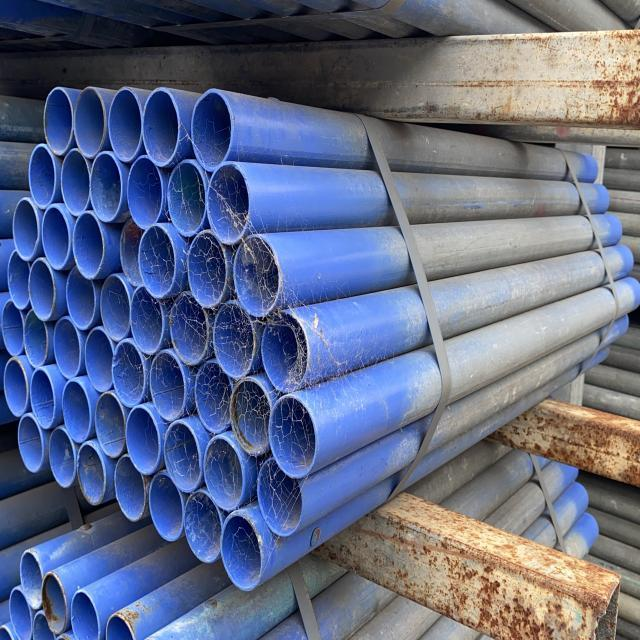pipe: (268, 390, 319, 481), (229, 235, 282, 320), (136, 85, 189, 169), (255, 455, 304, 538), (188, 88, 233, 174), (211, 298, 257, 380), (204, 162, 249, 244), (202, 435, 251, 510), (186, 227, 231, 307), (182, 479, 223, 565), (125, 154, 168, 233), (164, 159, 207, 237), (227, 377, 270, 455), (135, 219, 179, 295), (221, 514, 265, 590), (263, 314, 309, 386), (168, 291, 208, 370), (194, 357, 235, 433), (147, 461, 183, 544), (105, 86, 142, 165), (161, 419, 201, 492), (64, 254, 101, 331), (27, 236, 59, 323), (124, 404, 162, 476), (148, 350, 187, 420), (110, 339, 148, 408), (129, 283, 165, 354), (71, 208, 107, 277), (113, 449, 146, 524), (57, 145, 90, 217), (89, 150, 121, 222), (41, 87, 74, 155), (92, 390, 123, 462), (59, 377, 93, 440), (73, 84, 103, 155), (28, 143, 60, 208), (75, 439, 108, 502), (100, 272, 130, 340), (26, 365, 58, 428), (45, 423, 76, 486), (39, 204, 69, 269), (85, 326, 114, 392), (51, 316, 81, 376), (39, 570, 68, 629), (19, 413, 47, 472), (18, 545, 44, 608), (6, 349, 28, 417), (120, 215, 143, 280), (21, 309, 47, 366), (12, 199, 36, 259), (8, 249, 30, 311), (70, 589, 97, 633), (10, 588, 30, 630), (6, 302, 22, 352), (105, 612, 126, 633)
